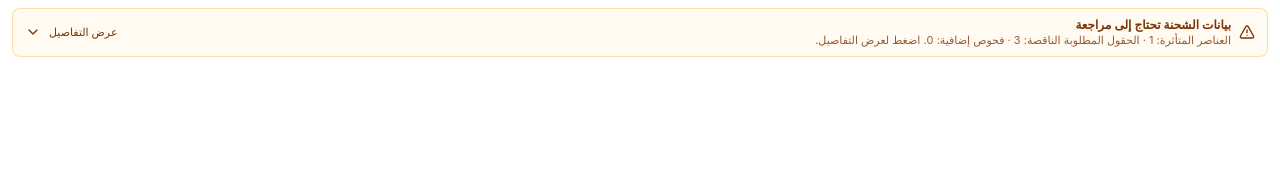
Scenario: manifest review problems alert › shows the same precise fields in Arabic
Click the button "بيانات الشحنة تحتاج إلى مراجعة": (1153, 24) [13,9,1267,56]
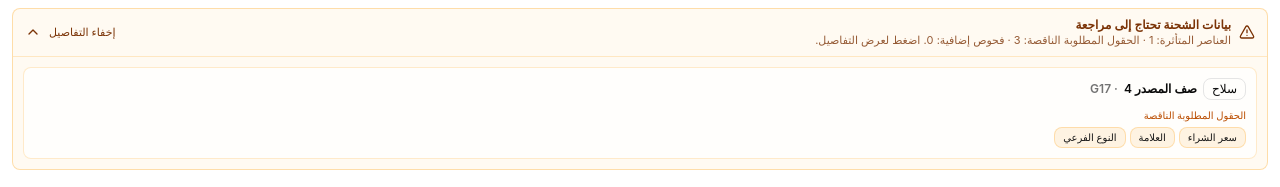
Now the text "صف المصدر 4" is shown, box [1124,81,1197,97]
Now the text "سعر الشراء" is shown, box [1179,127,1246,148]
Now the text "العلامة" is shown, box [1130,127,1175,148]
